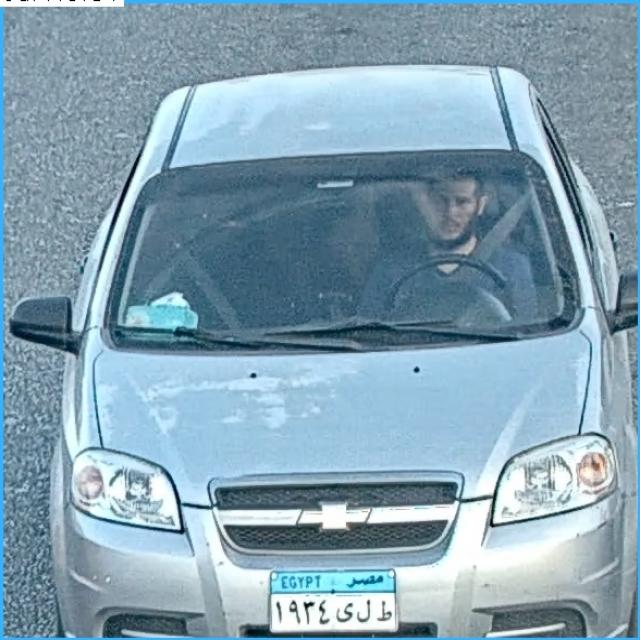windshield: (104, 155, 576, 346)
